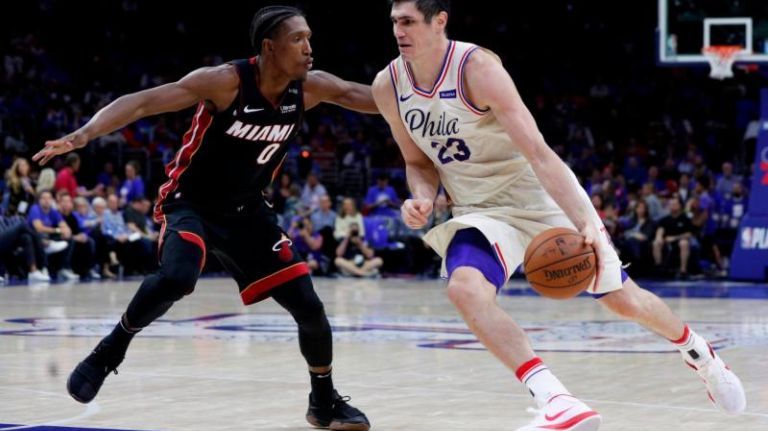basketball: (507, 216, 605, 308)
basketball player: (19, 4, 388, 431), (367, 1, 637, 431)
